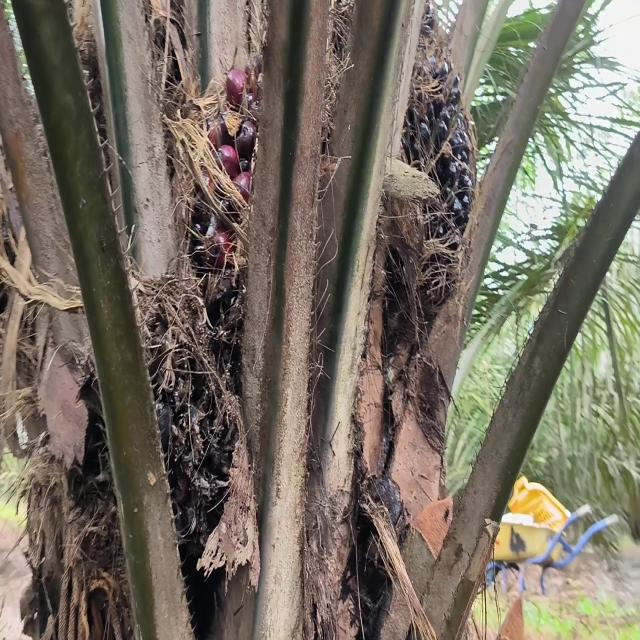palm-oil: (177, 49, 330, 418), (388, 32, 479, 360)
